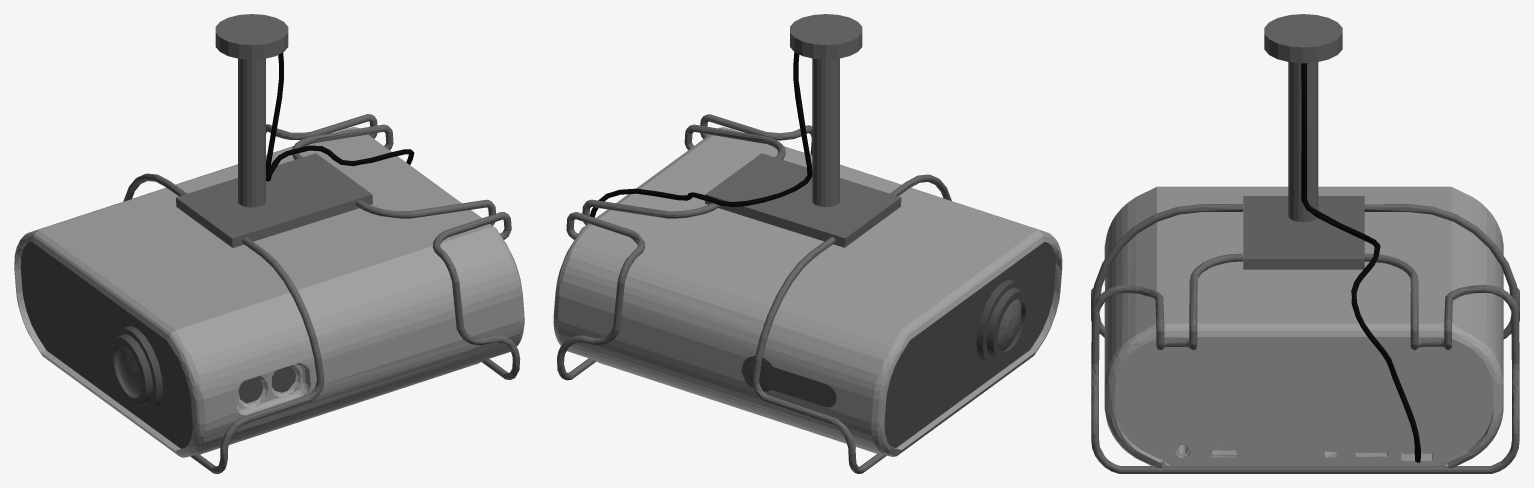
The model's file is Projector.FBX.
The picture shows the model from 3 angles, left to right: view 1: azimuth 30°, elevation 25°; view 2: azimuth 150°, elevation 25°; view 3: azimuth 270°, elevation 25°; orthographic projection. The views are drawn at different scales.
Visible parts, largest first — view 1: Projector; view 2: Projector; view 3: Projector.
Part boxes in pixels (x1=…): Projector: x1=14, y1=14, x2=524, y2=473; Projector: x1=553, y1=14, x2=1062, y2=473; Projector: x1=1091, y1=14, x2=1519, y2=473.
Bounding box in the file's own units: 399 × 374 × 366.
2 materials, 1 textured.
